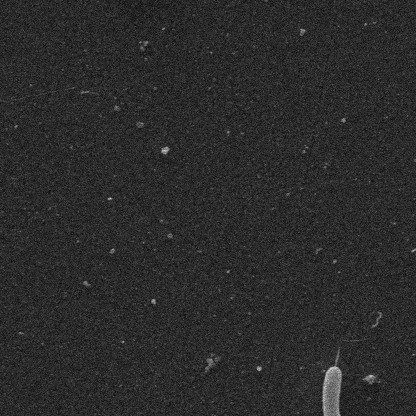cell2surface: (326, 344, 344, 370)
regular: (319, 367, 351, 416)
